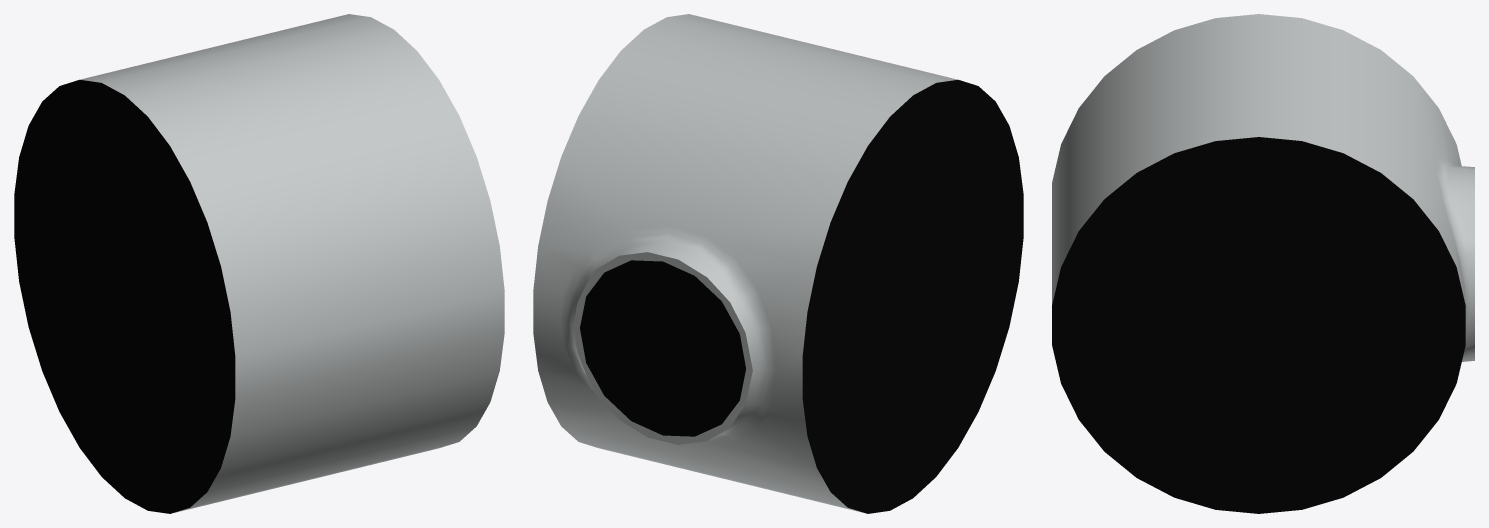
File: ankle.obj
3 views of the same model, side by side, from view 1: azimuth 30°, elevation 25°; view 2: azimuth 150°, elevation 25°; view 3: azimuth 270°, elevation 25° (orthographic). The views are drawn at different scales.
Parts seen in each view (by area): view 1: ankle; view 2: ankle; view 3: ankle.
Part boxes in pixels (left/top/right/bottom): ankle: left=14, top=14, right=504, bottom=513; ankle: left=533, top=14, right=1023, bottom=513; ankle: left=1052, top=14, right=1474, bottom=513.
Size of the model in its own units: 0.1198 by 0.1713 by 0.1742.
Materials: 1 (1 with a texture image).
